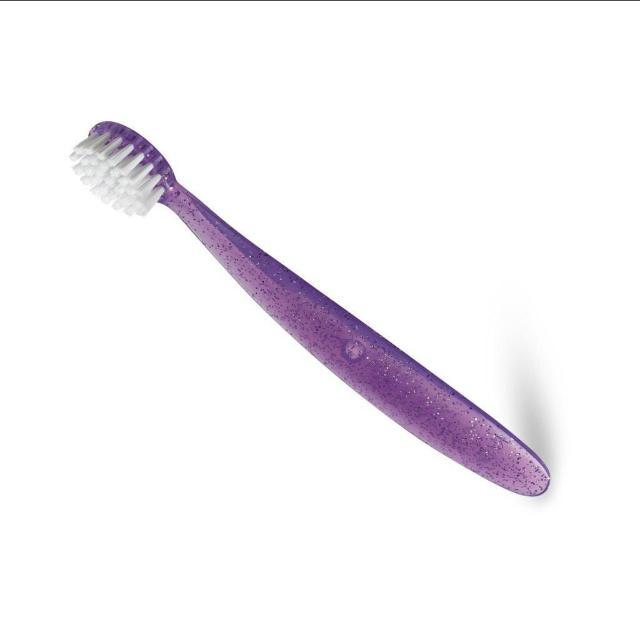toothbrush: (35, 106, 599, 522)
